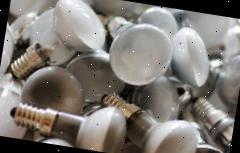lightbulb: (0, 0, 240, 153), (100, 14, 176, 90), (48, 0, 112, 54), (163, 23, 215, 88), (0, 18, 18, 87)
